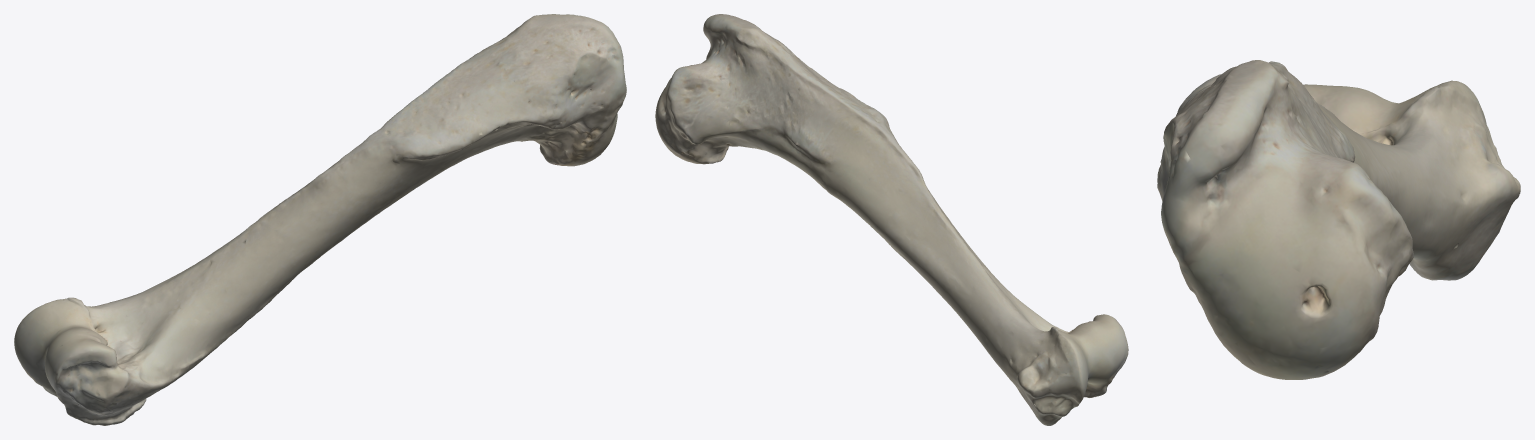
3 views of the same model, side by side, from view 1: azimuth 30°, elevation 25°; view 2: azimuth 150°, elevation 25°; view 3: azimuth 270°, elevation 25° (orthographic). The views are drawn at different scales.
Parts seen in each view (by area): view 1: Humerus_li_Hund.001; view 2: Humerus_li_Hund.001; view 3: Humerus_li_Hund.001.
Boxes of the visible parts, x1,y1,x2,y2 form: Humerus_li_Hund.001: [14, 14, 626, 425]; Humerus_li_Hund.001: [655, 14, 1128, 425]; Humerus_li_Hund.001: [1157, 60, 1520, 379].
Bounding box in the file's own units: 15181 × 8654 × 5121.
1 material, 1 textured.
